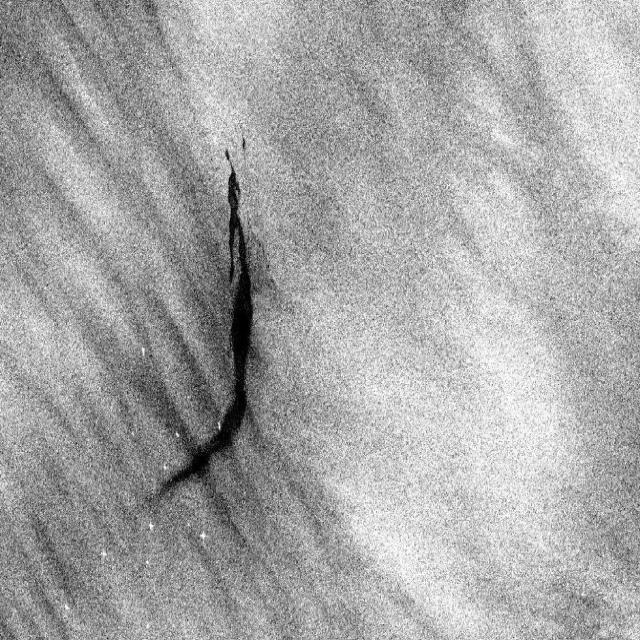oil-spill: (143, 141, 258, 510)
